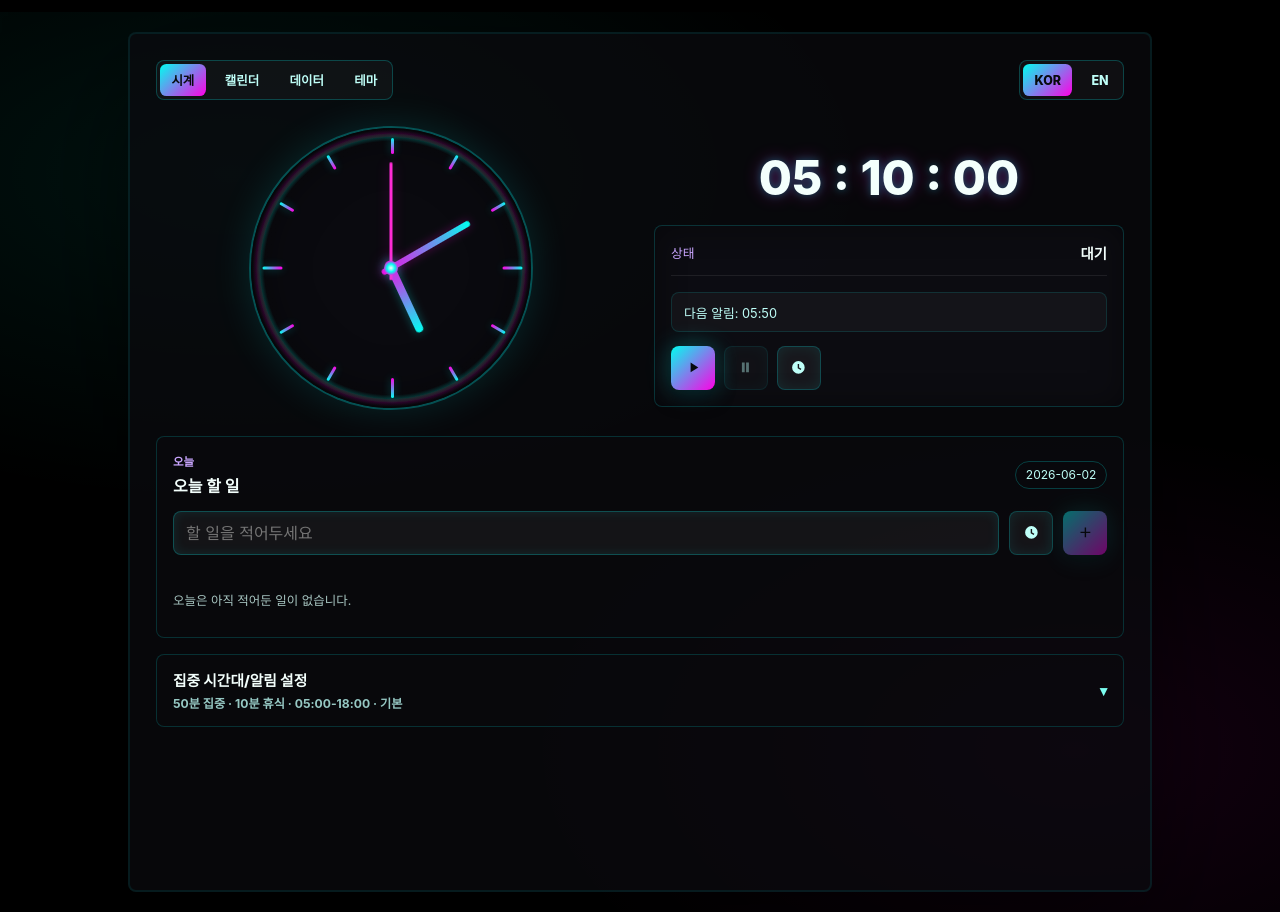
Test: RhythmApp › shows sound action failures instead of losing them as unhandled promises
Click the button "집중 시간대/알림 설정 50분 집중 · 10분 휴식 · 05:00-18:00 · 기본 ▾".
click(240, 681)  # box x1=157 y1=656 x2=1123 y2=726
(page scrolled)
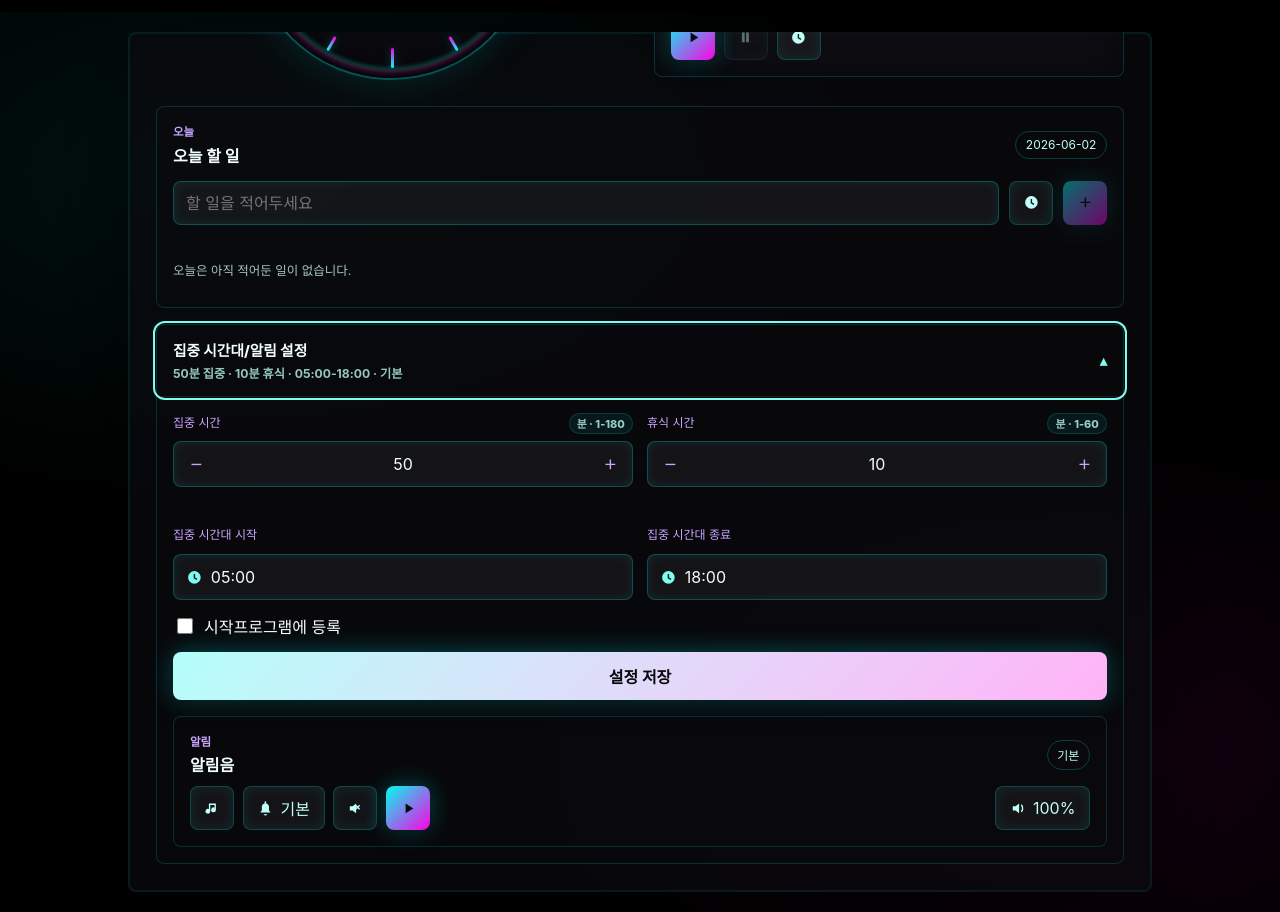
Click the button named "미리듣기".
click(408, 808)  # box x1=386 y1=786 x2=430 y2=830
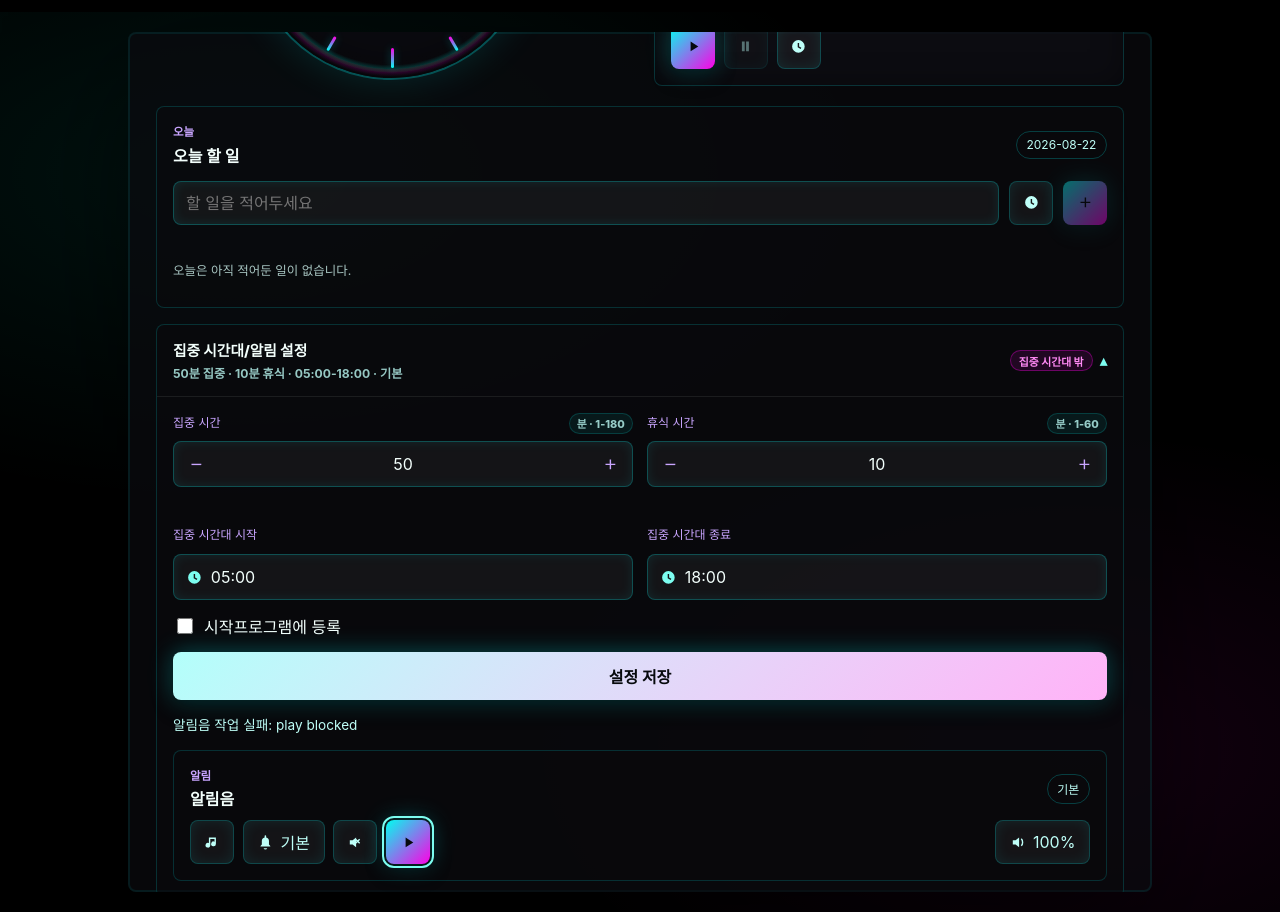
Check: the text "알림음 작업 실패: play blocked" is shown, box x1=173 y1=717 x2=357 y2=733
